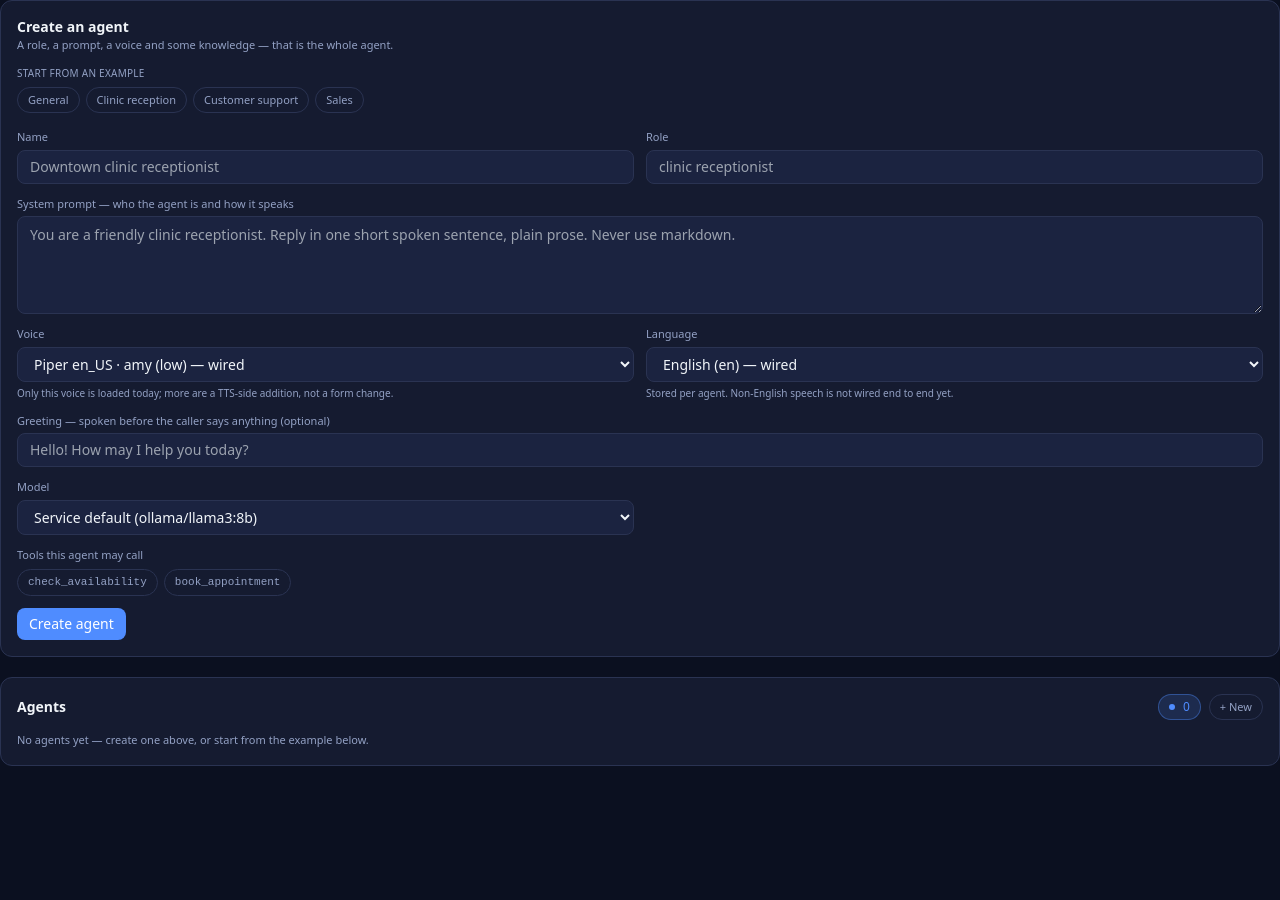
Test: AgentBuilder › refuses to create an agent with no name
Check: the text "No agents yet" is shown, box [17,732,369,747]
Click the button with test id "save-agent" at point(71, 624), box [17,608,126,640]
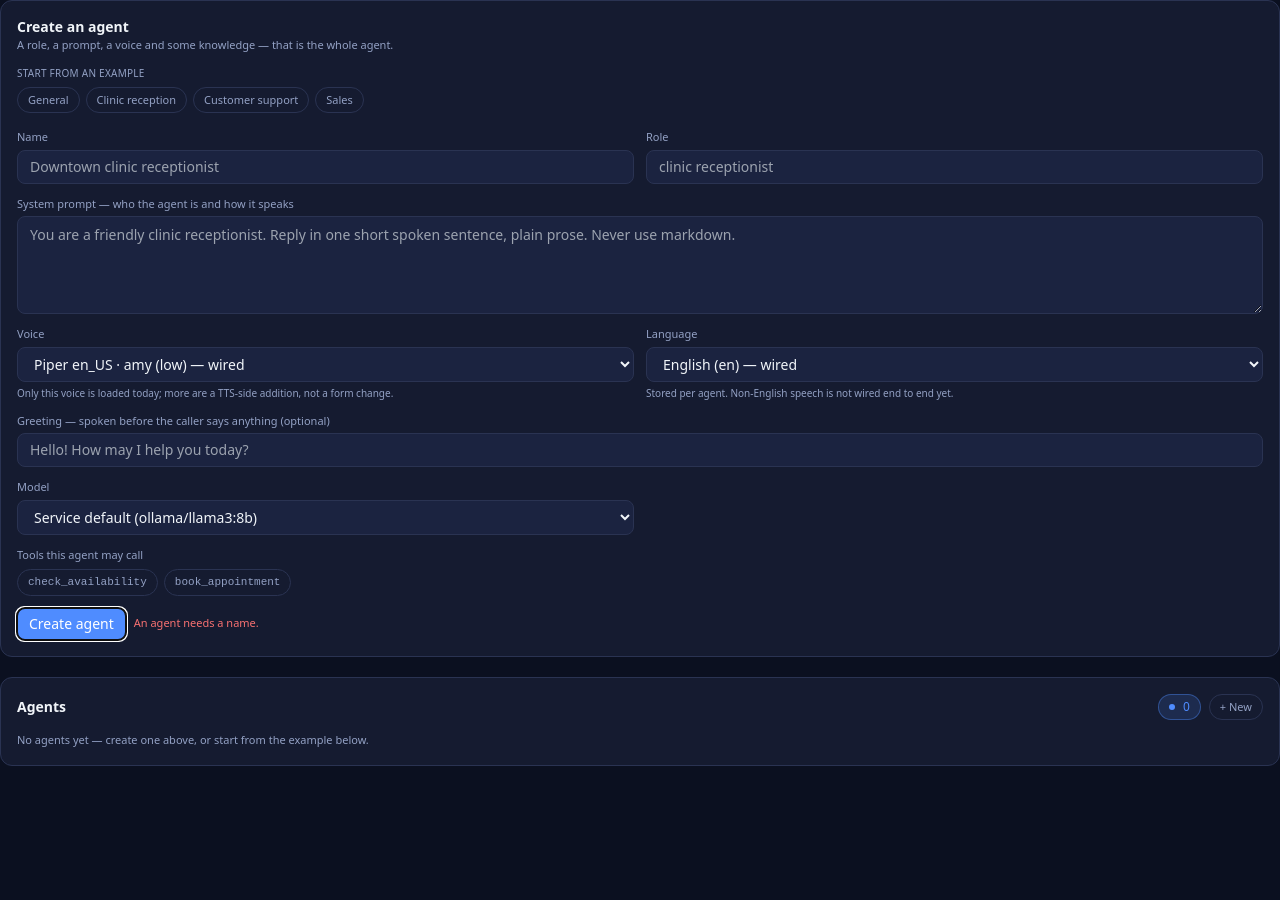
Check: the text "An agent needs a name." is shown, box [134,615,259,632]
